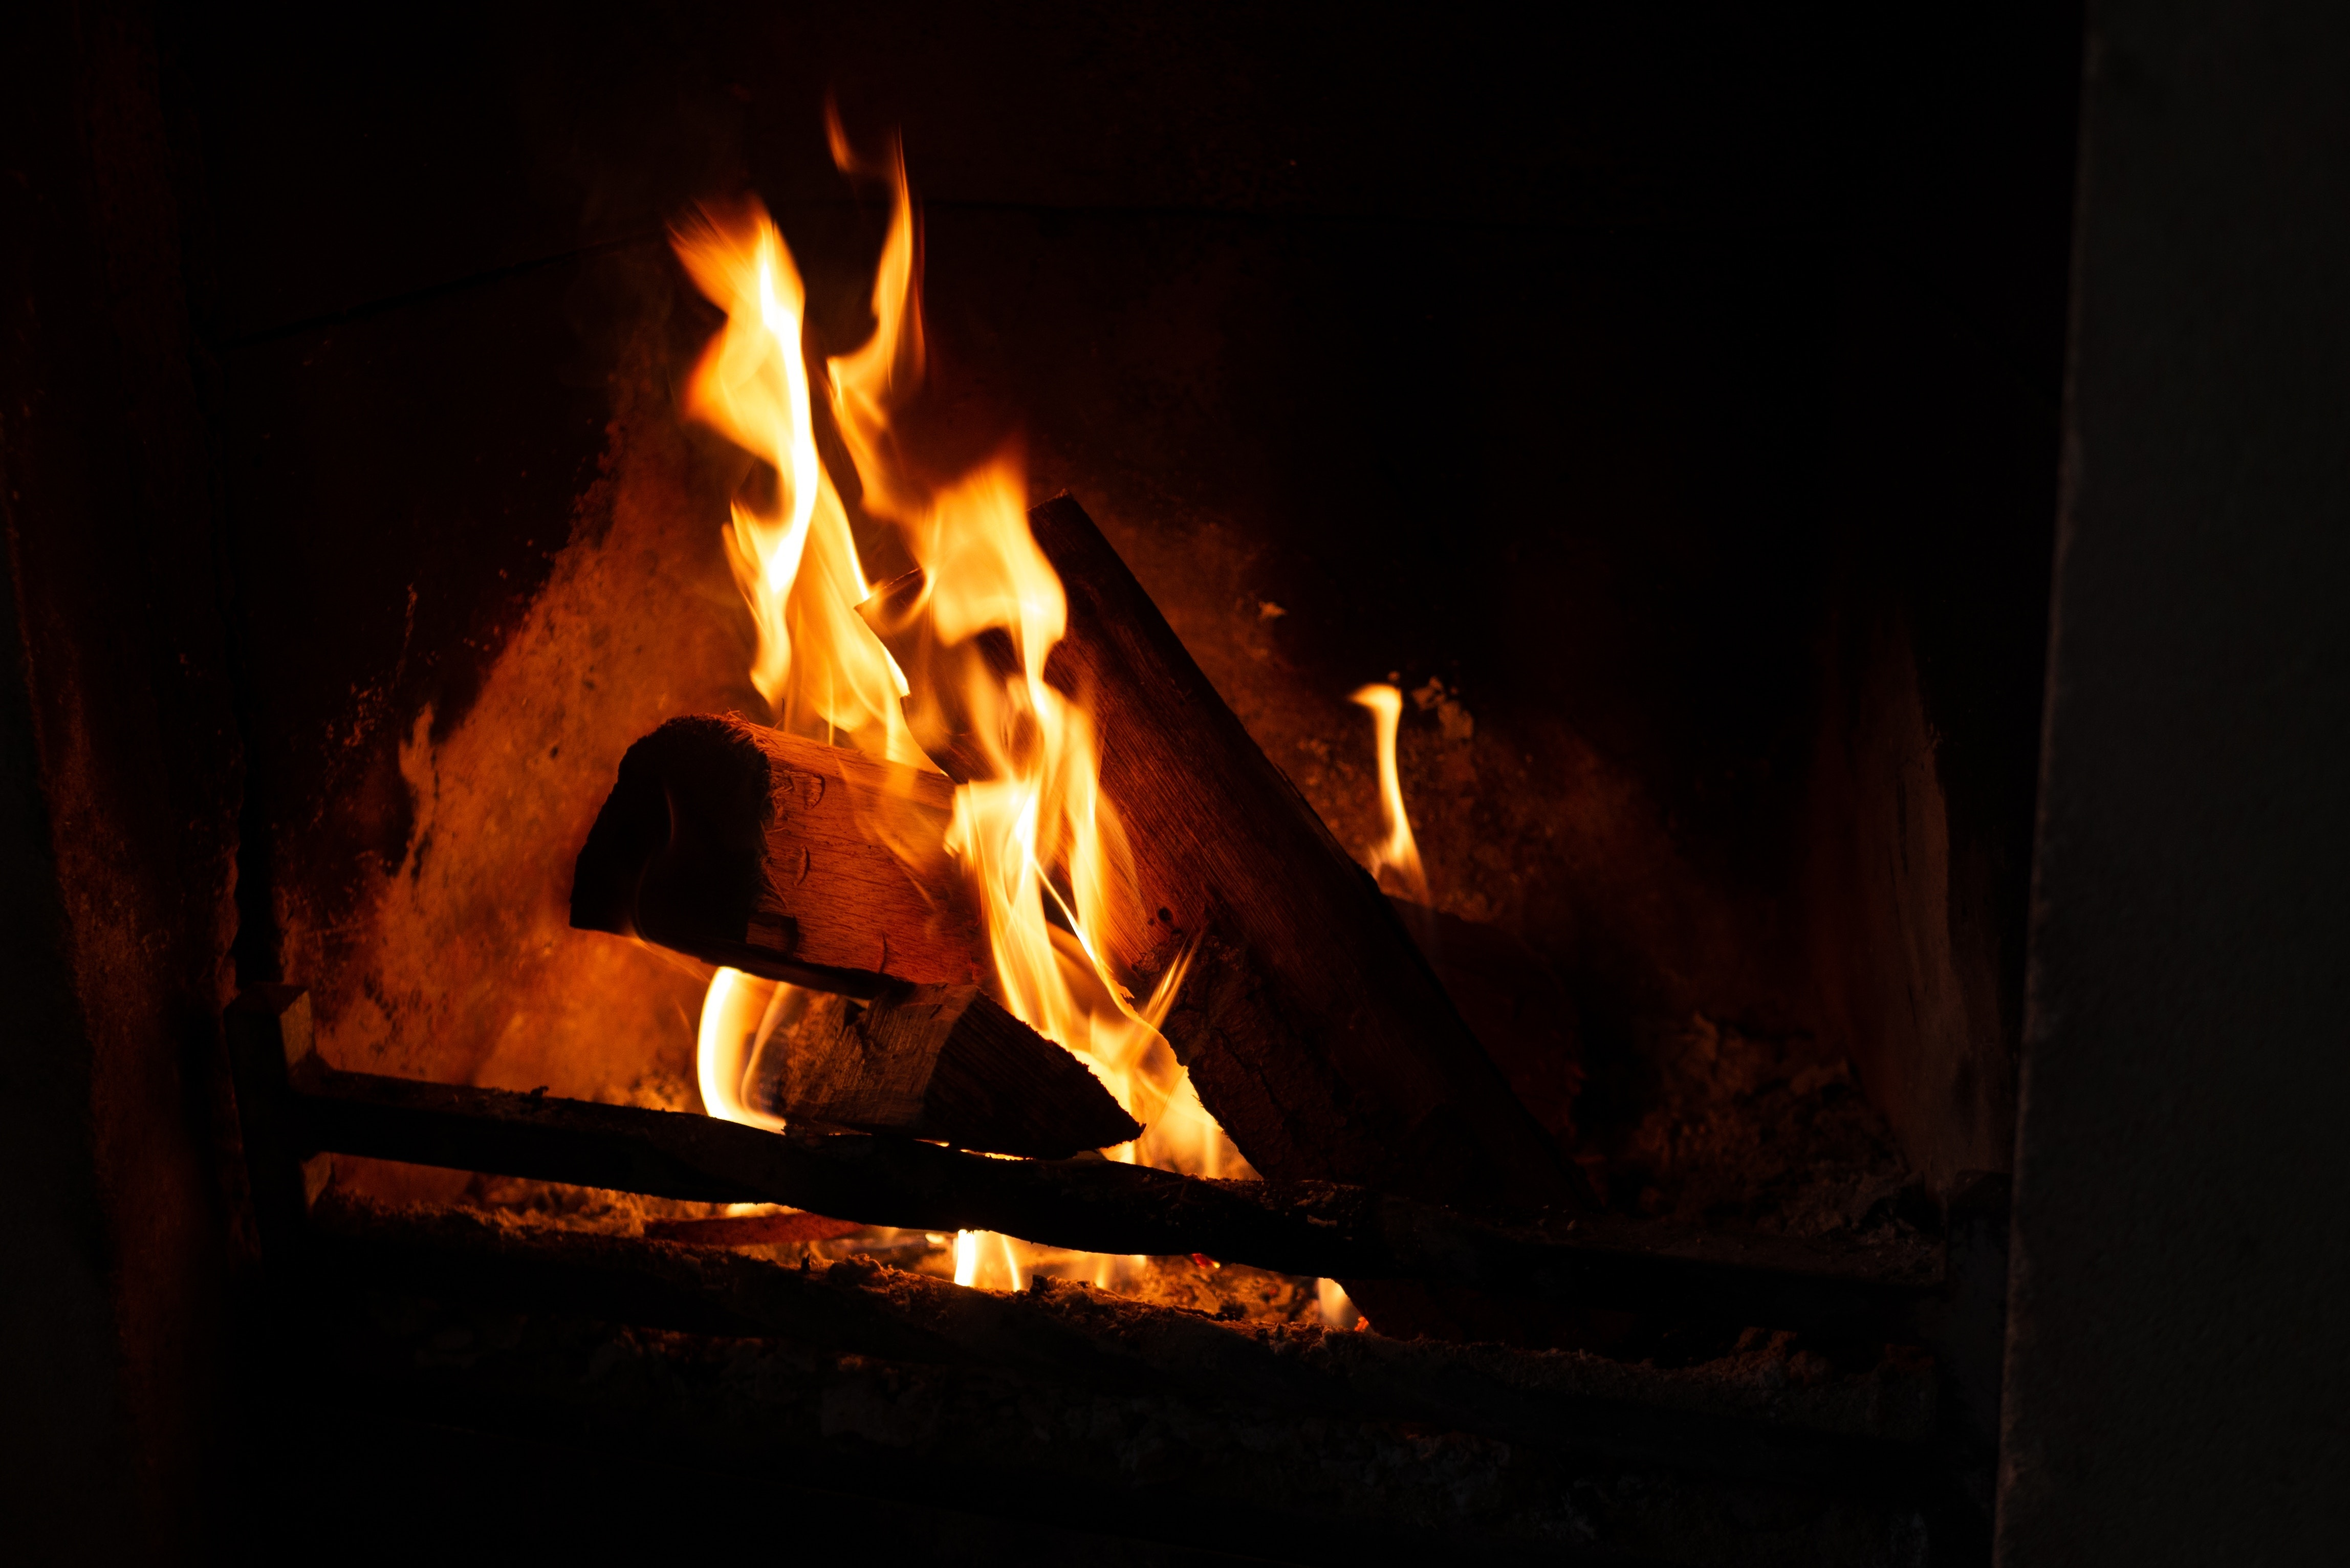fire: (653, 119, 1325, 1328)
